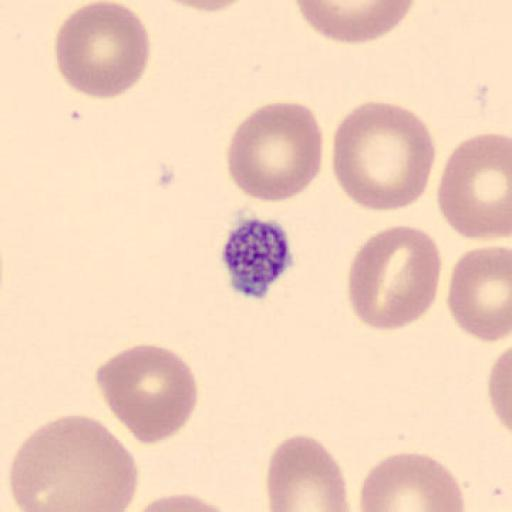Platelet: (218, 213, 298, 300)
RBC: (8, 412, 140, 512), (331, 100, 438, 214), (94, 342, 199, 448), (346, 223, 444, 333), (225, 100, 325, 205), (52, 1, 151, 101), (436, 129, 512, 241), (264, 433, 352, 512), (358, 450, 466, 512), (446, 244, 512, 344), (292, 0, 418, 45), (125, 491, 242, 512), (488, 341, 512, 439), (154, 0, 254, 14)
